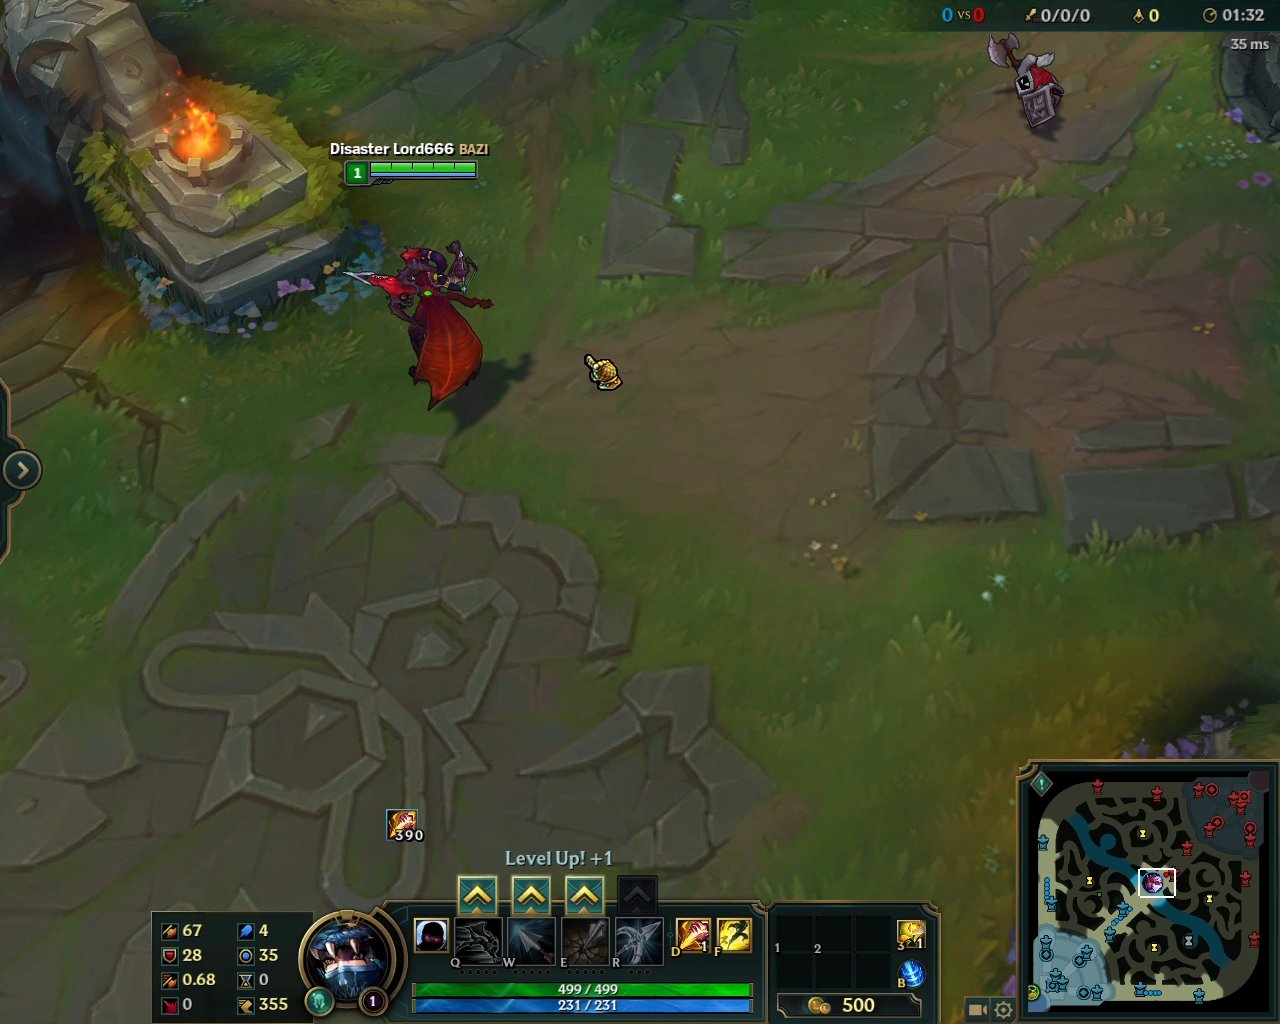EnemyMinion: (986, 30, 1071, 129)
Vayne: (336, 235, 502, 418)
